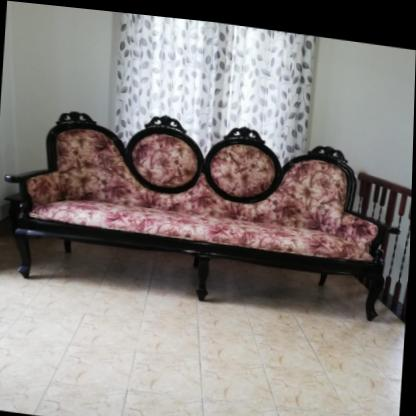Ceramic floor: (0, 279, 407, 416)
Curtains: (109, 9, 319, 159)
Sofa: (0, 92, 403, 320)
